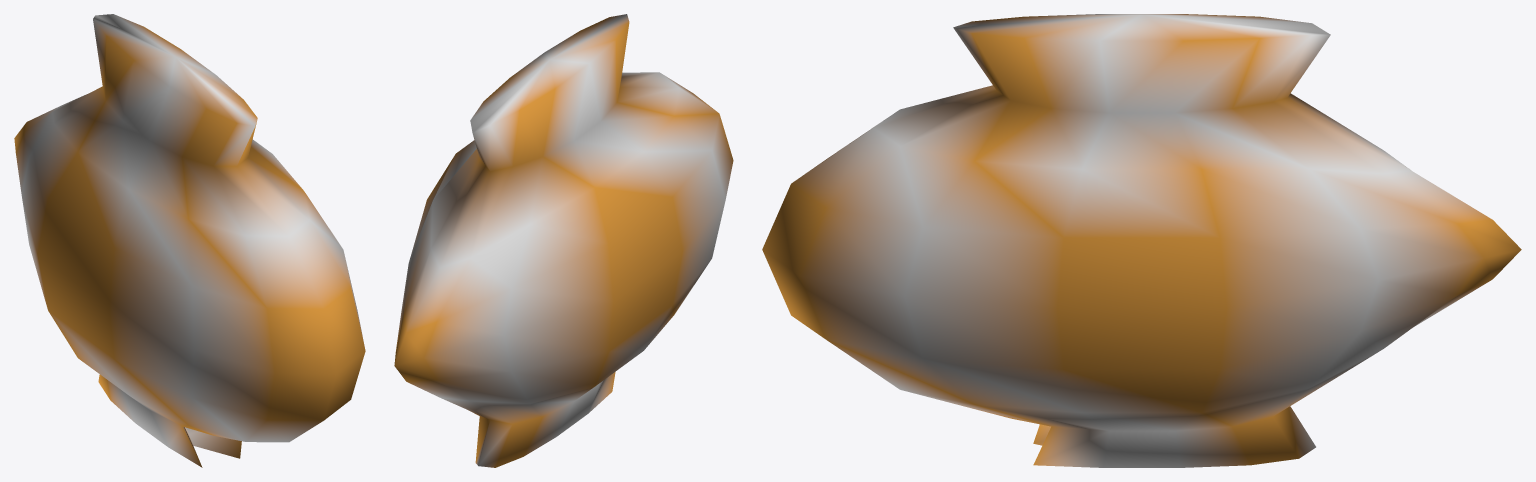
File: clownfish.glb
3 views of the same model, side by side, from view 1: azimuth 30°, elevation 25°; view 2: azimuth 150°, elevation 25°; view 3: azimuth 270°, elevation 25° (orthographic). The views are drawn at different scales.
Parts seen in each view (by area): view 1: clownfish; view 2: clownfish; view 3: clownfish.
Boxes of the visible parts, bbox=[...] form: clownfish: bbox=[14, 14, 365, 467]; clownfish: bbox=[394, 14, 733, 467]; clownfish: bbox=[762, 14, 1521, 467].
Size of the model in its own units: 0.0877 by 0.158 by 0.24.
